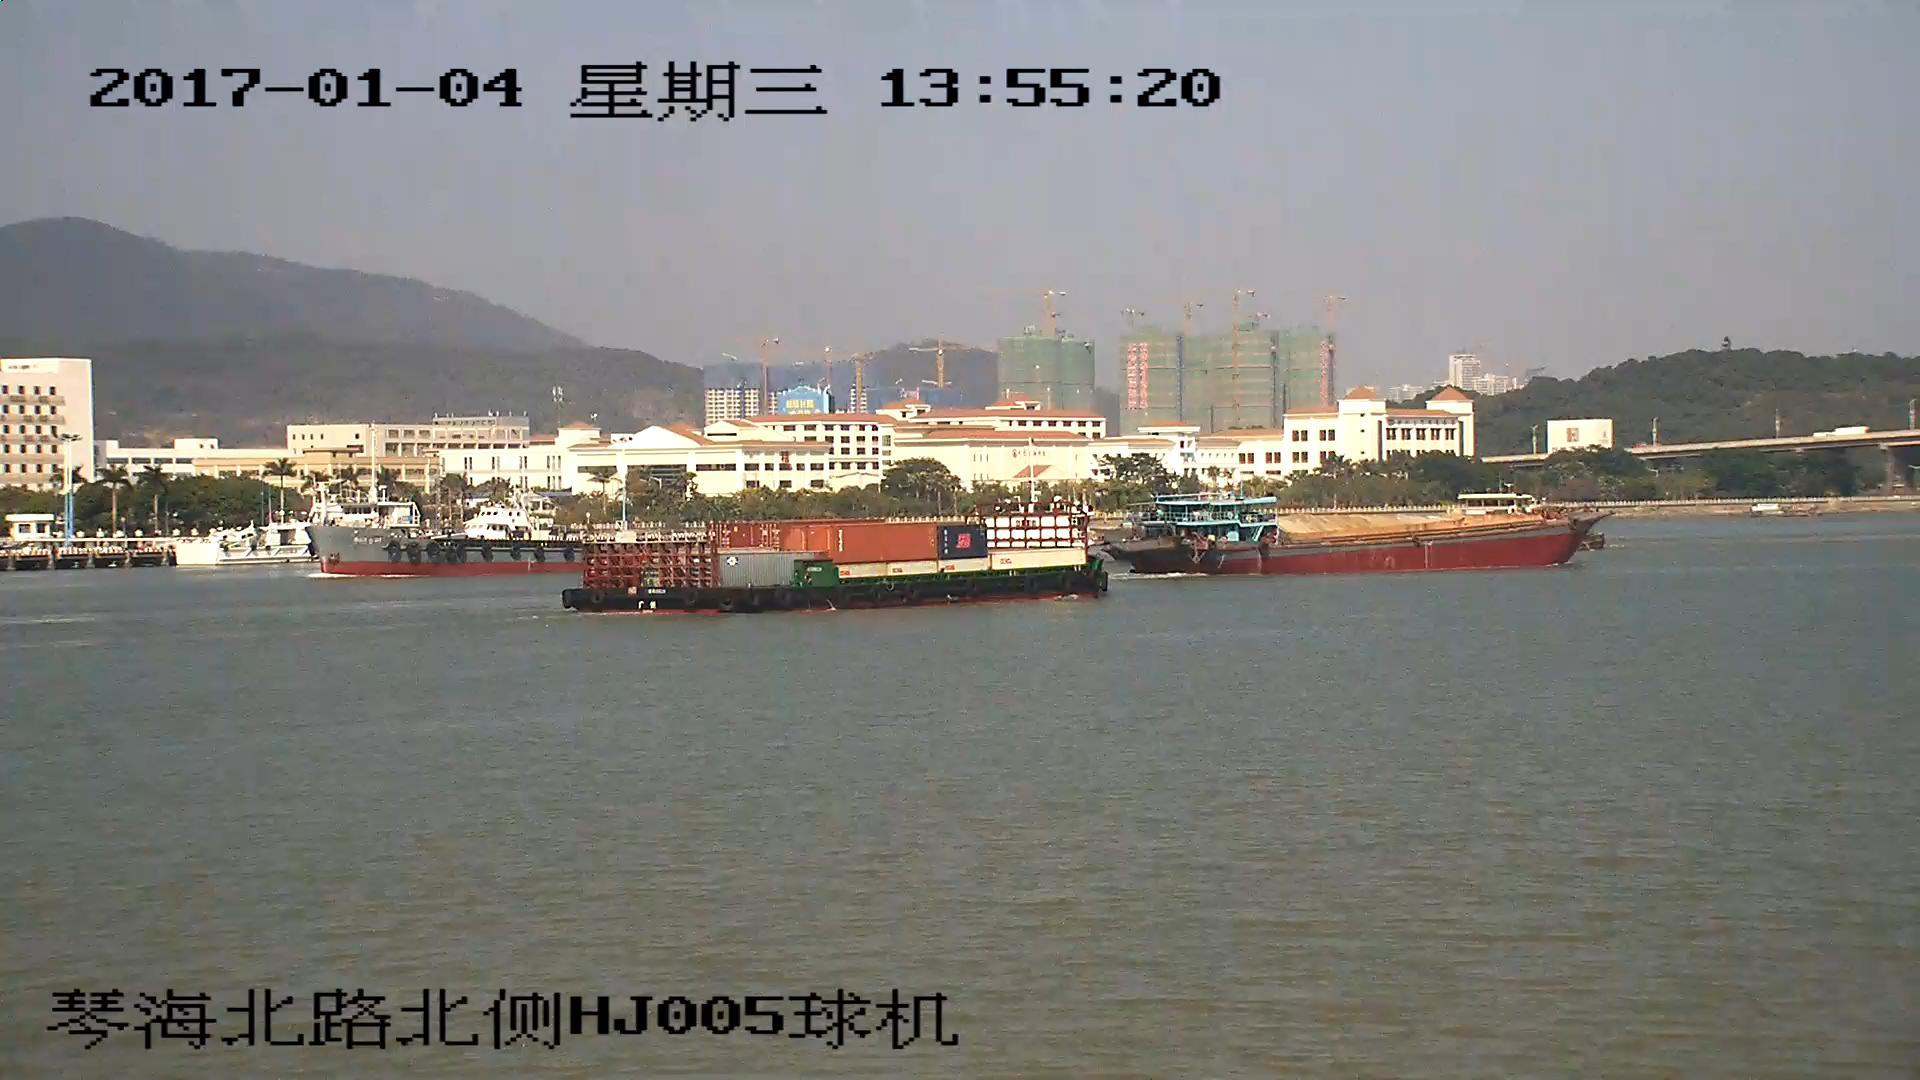Ship: (564, 509, 1108, 613), (1122, 512, 1607, 574), (309, 491, 576, 574)
